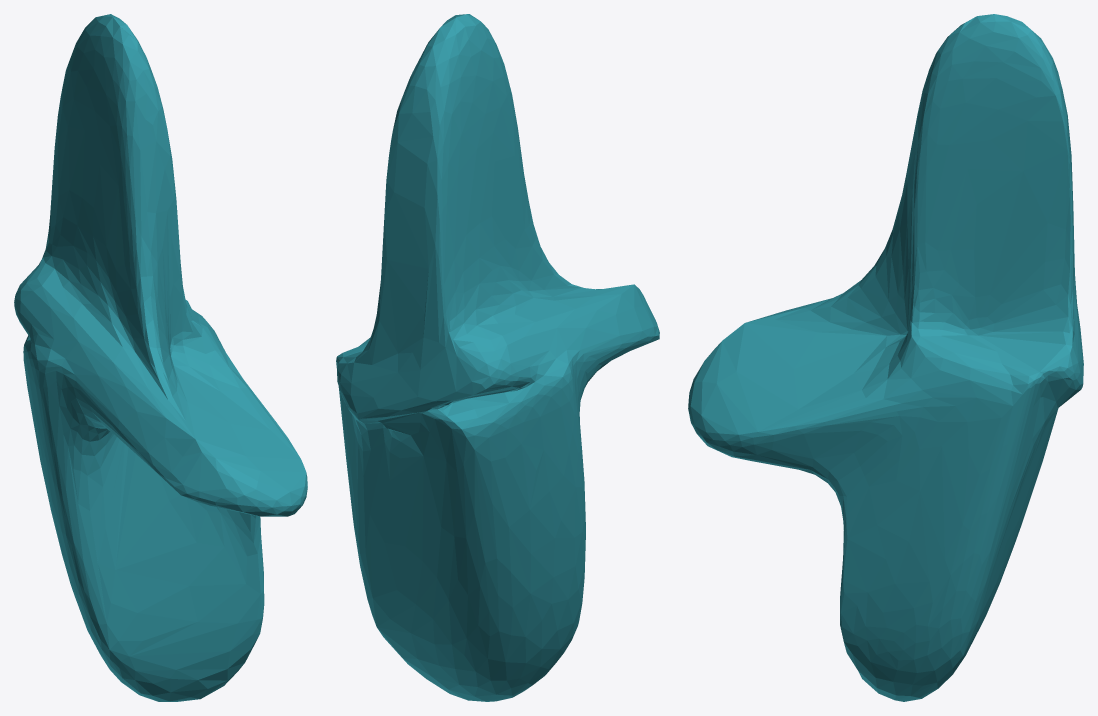
3 views of the same model, side by side, from view 1: azimuth 30°, elevation 25°; view 2: azimuth 150°, elevation 25°; view 3: azimuth 270°, elevation 25° (orthographic). The views are drawn at different scales.
Visible parts, largest first — view 1: 755_Cube.3038; view 2: 755_Cube.3038; view 3: 755_Cube.3038.
Boxes of the visible parts, x1=… form: 755_Cube.3038: x1=14, y1=14, x2=307, y2=701; 755_Cube.3038: x1=336, y1=14, x2=659, y2=701; 755_Cube.3038: x1=688, y1=14, x2=1083, y2=701.
Size of the model in its own units: 6.31 by 20.7 by 11.13.
